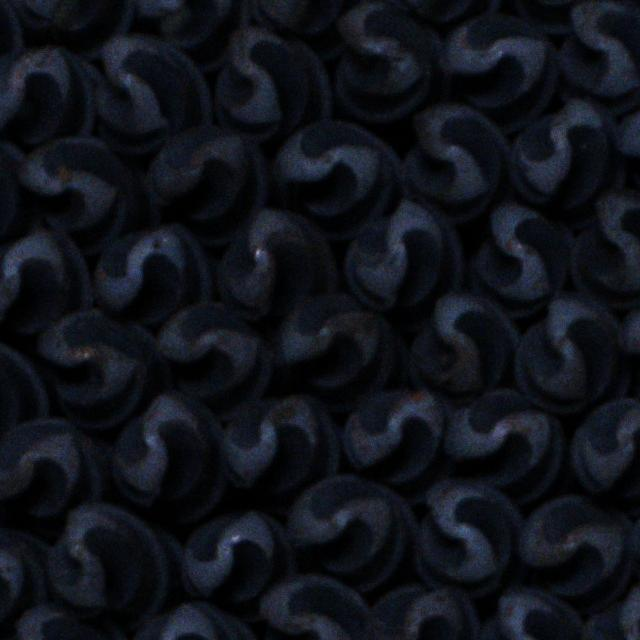tool_b: (37, 309, 173, 432), (343, 194, 462, 333), (49, 504, 181, 626), (270, 119, 400, 238), (284, 478, 416, 594), (508, 99, 624, 228), (111, 393, 227, 521), (91, 32, 212, 154), (282, 291, 408, 408), (16, 136, 140, 254), (146, 125, 268, 244), (222, 393, 342, 513), (336, 0, 454, 122), (441, 12, 559, 134), (443, 388, 563, 506), (515, 292, 631, 414), (212, 24, 331, 142), (516, 497, 634, 612), (216, 208, 338, 318), (399, 104, 508, 222), (182, 508, 294, 621), (415, 478, 523, 594), (342, 388, 448, 503), (96, 221, 214, 324), (468, 198, 570, 316), (412, 292, 518, 400), (158, 302, 274, 398), (0, 416, 110, 516), (0, 46, 107, 144), (0, 228, 93, 338), (556, 0, 640, 118), (568, 188, 640, 312), (135, 0, 252, 74), (571, 391, 640, 516), (248, 0, 390, 59), (14, 0, 142, 60), (258, 572, 368, 640), (362, 583, 478, 640), (474, 585, 584, 640), (0, 525, 52, 640)
